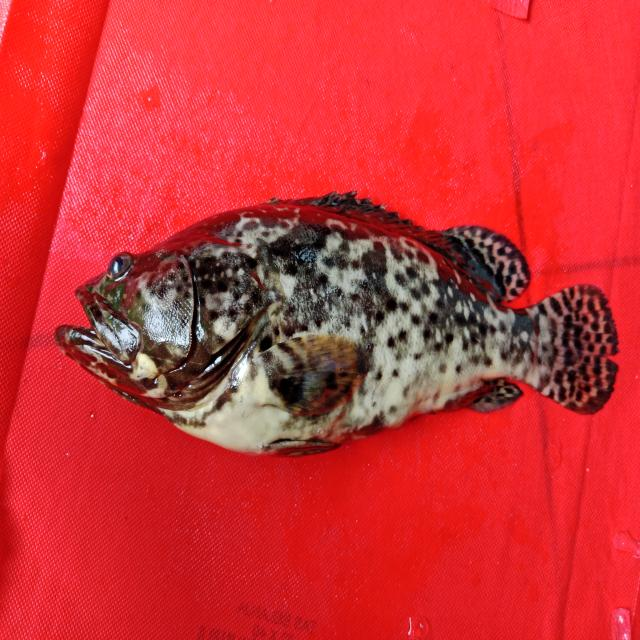ikan: (58, 167, 634, 475)
